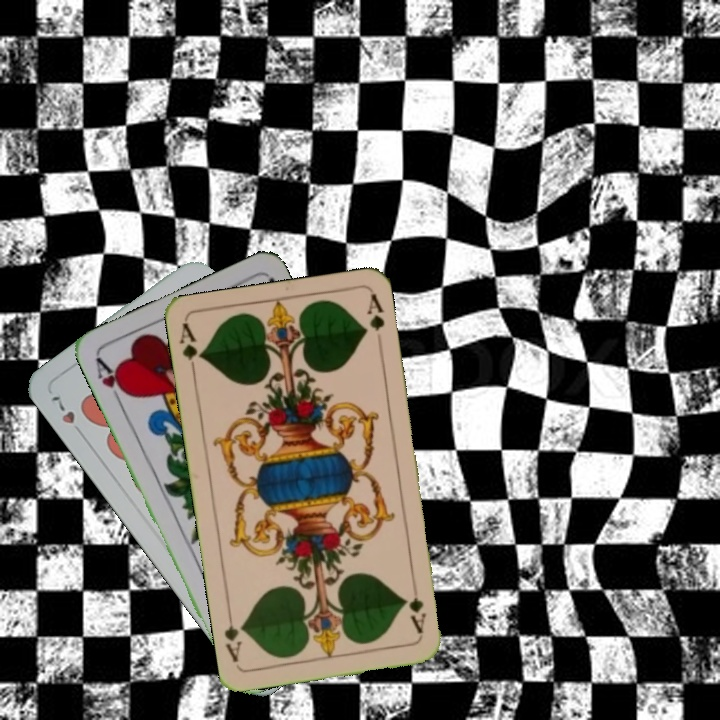GA: (175, 320, 205, 379), (402, 593, 429, 636)
H7: (46, 391, 87, 440)
HA: (92, 354, 132, 409)
